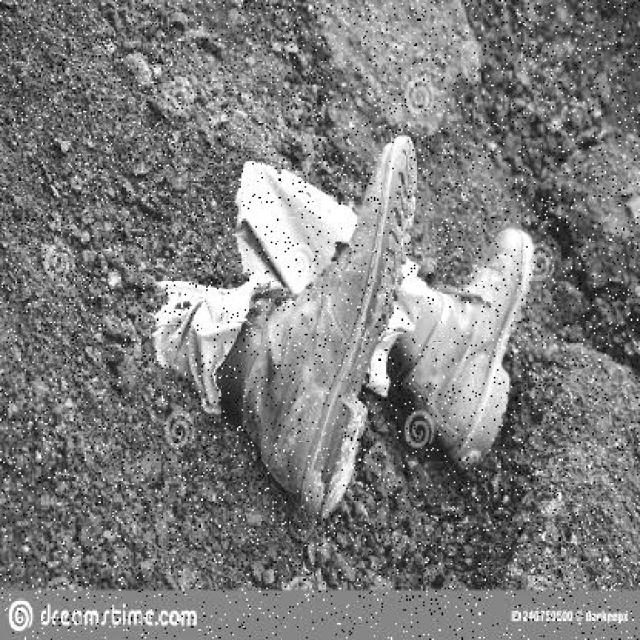shoes: (240, 133, 405, 522), (426, 222, 528, 466)
